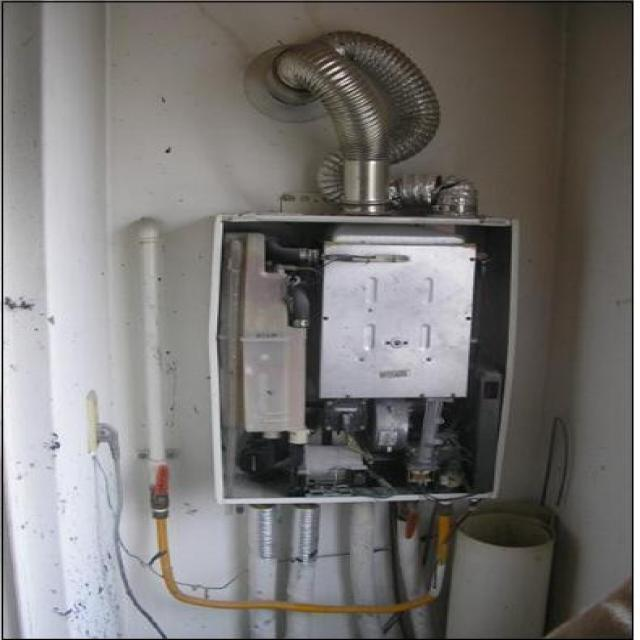Boiler: (227, 216, 493, 492)
